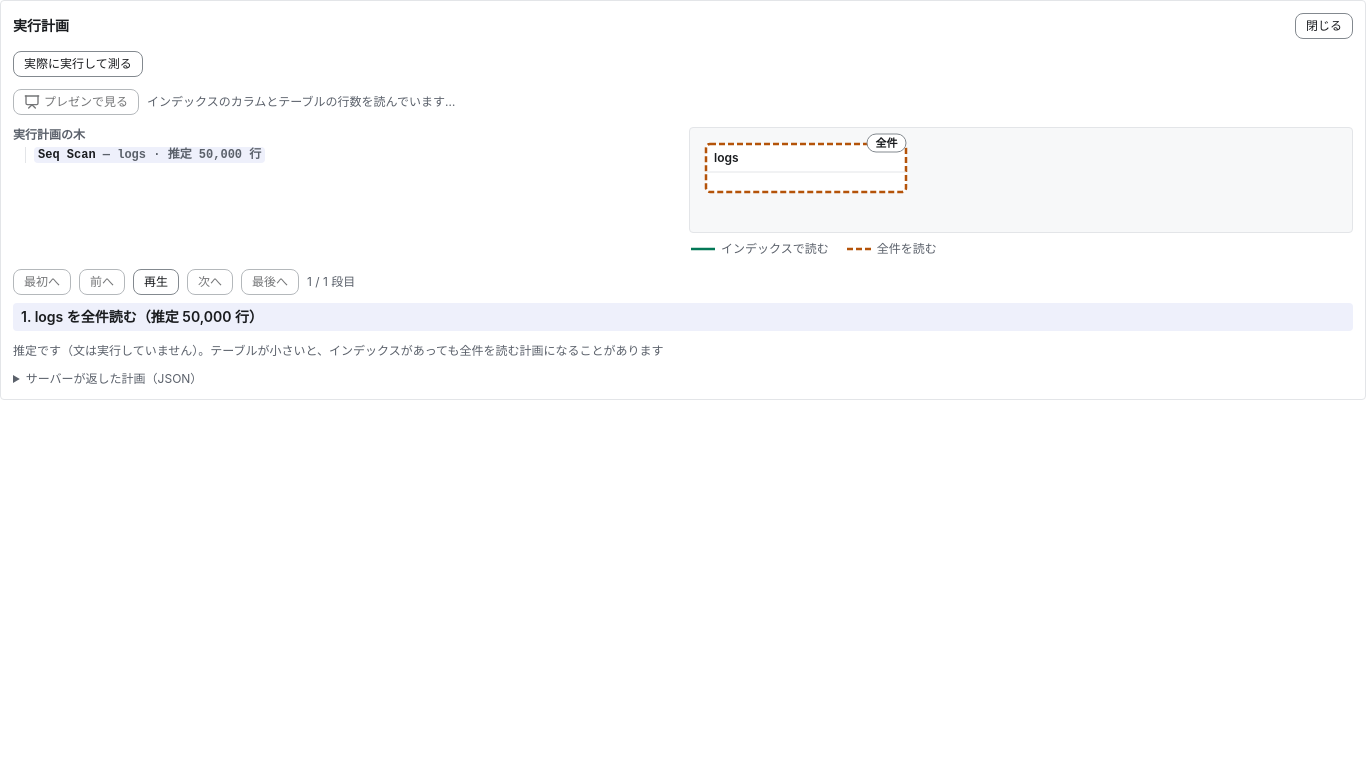
PlanView › run and measure › says why a stop did not reach the server, and can stop again
Click the button "実際に実行して測る".
click(78, 64)  # box [13,51,143,77]
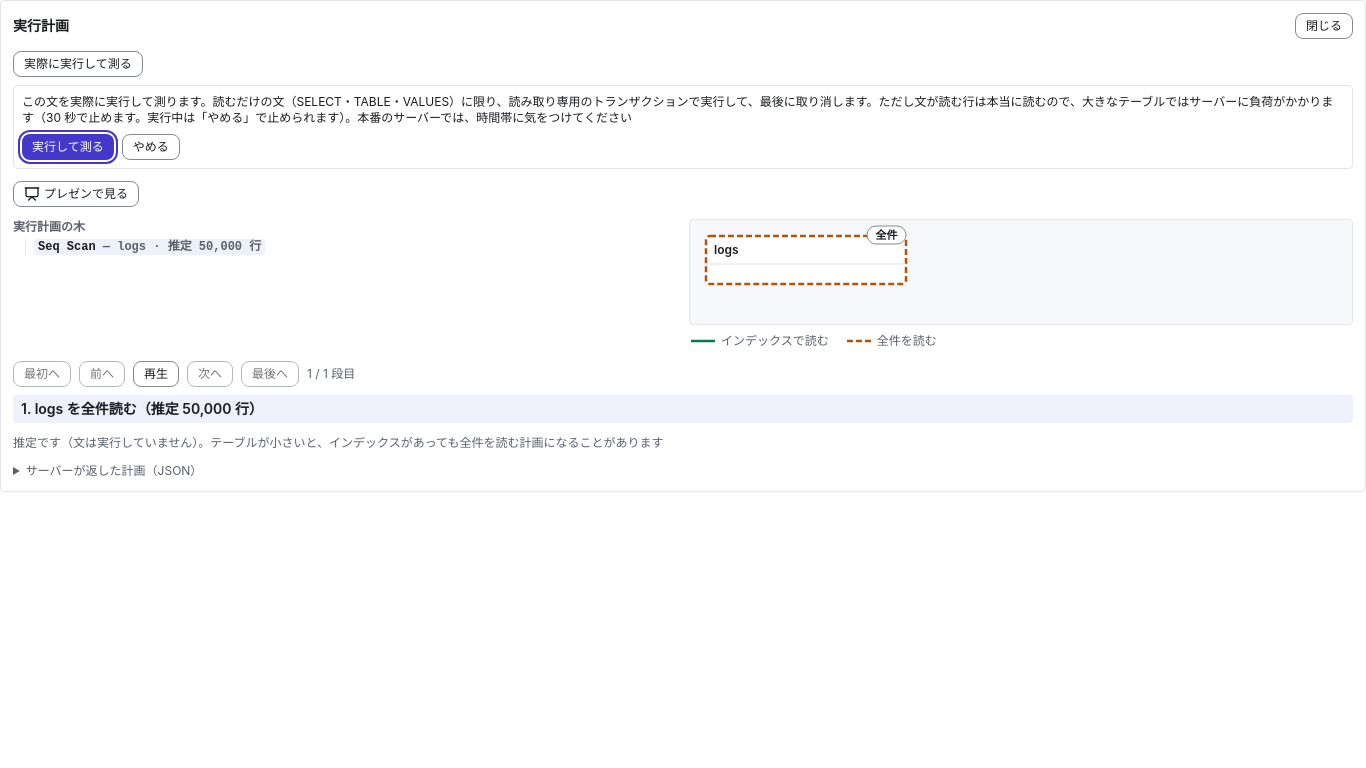
Click the button "実行して測る".
click(68, 147)  # box [22,134,114,160]
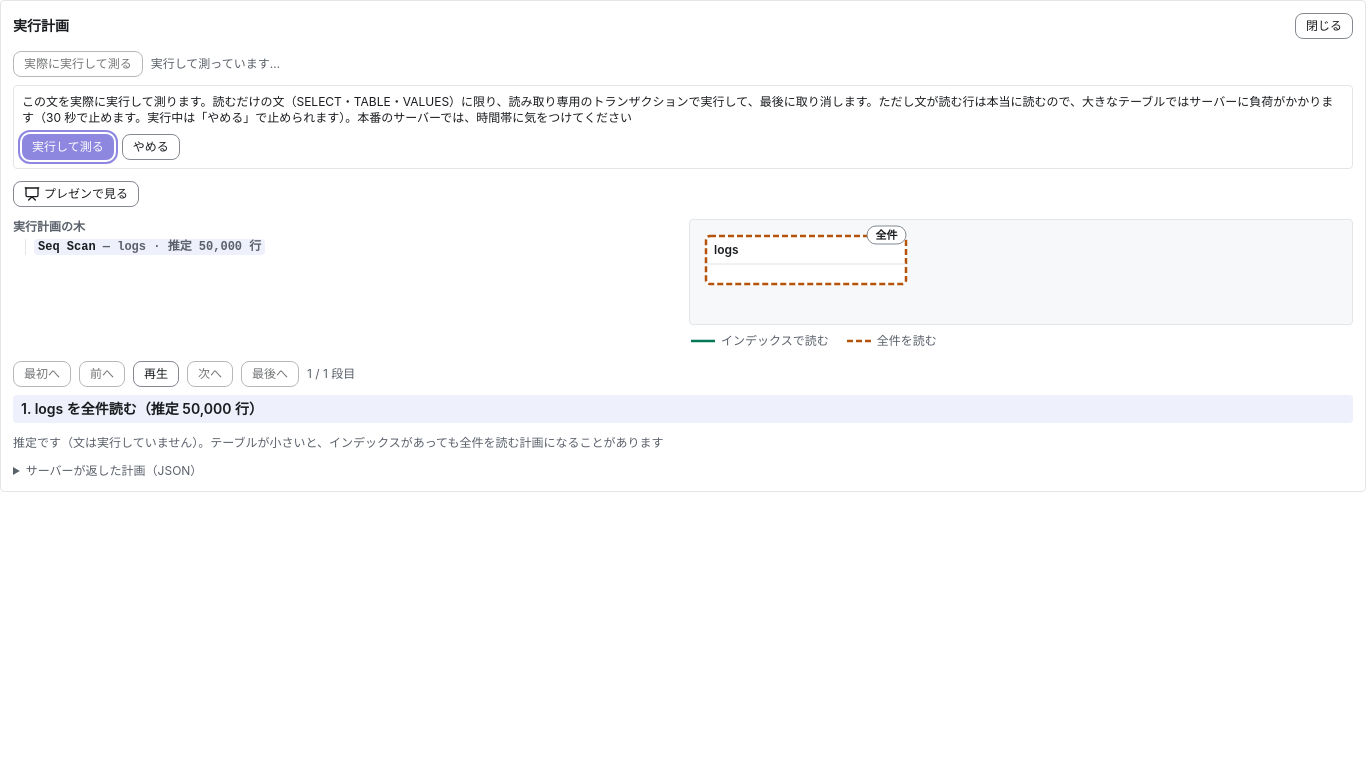
Click the button "やめる".
click(151, 147)  # box [122,134,180,160]
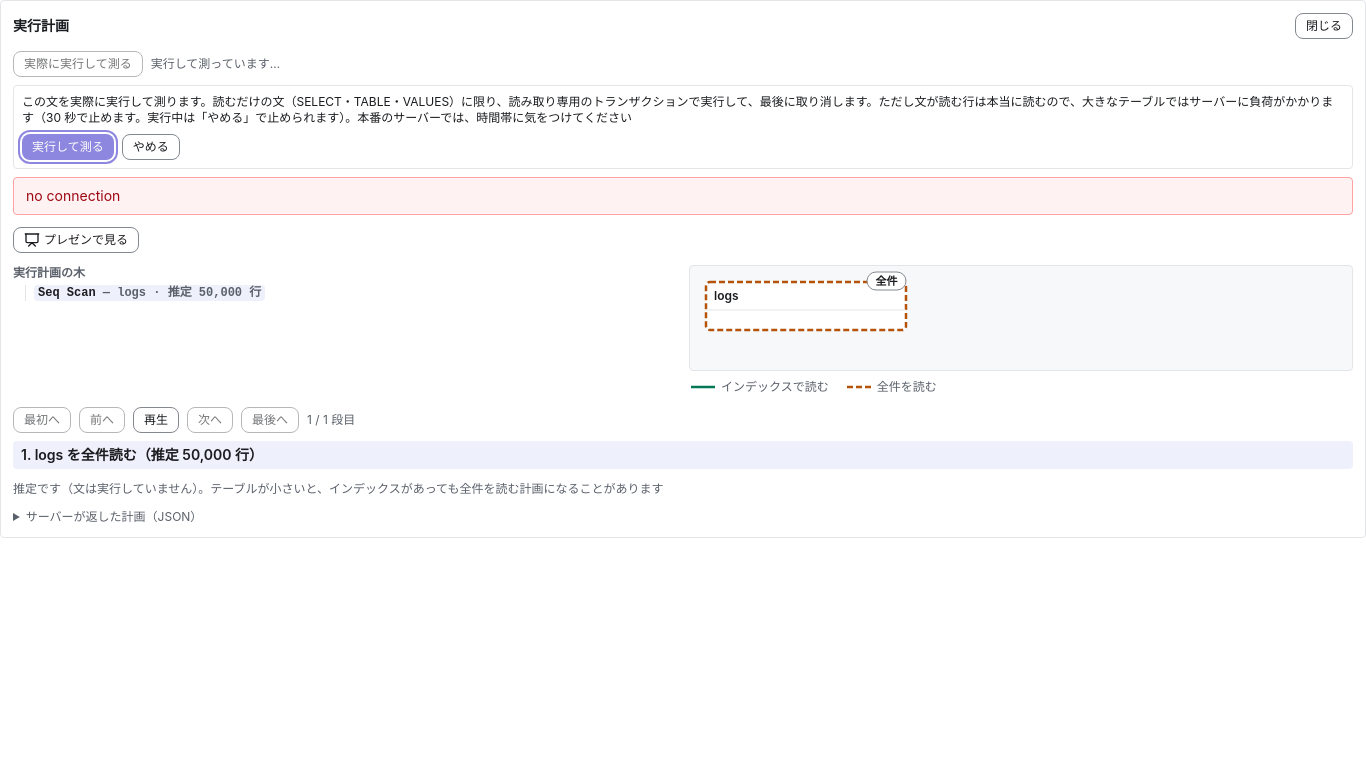
Expected: the text "no connection" is shown, [25,186,120,204]
Click the button "やめる".
click(151, 147)  # box [122,134,180,160]
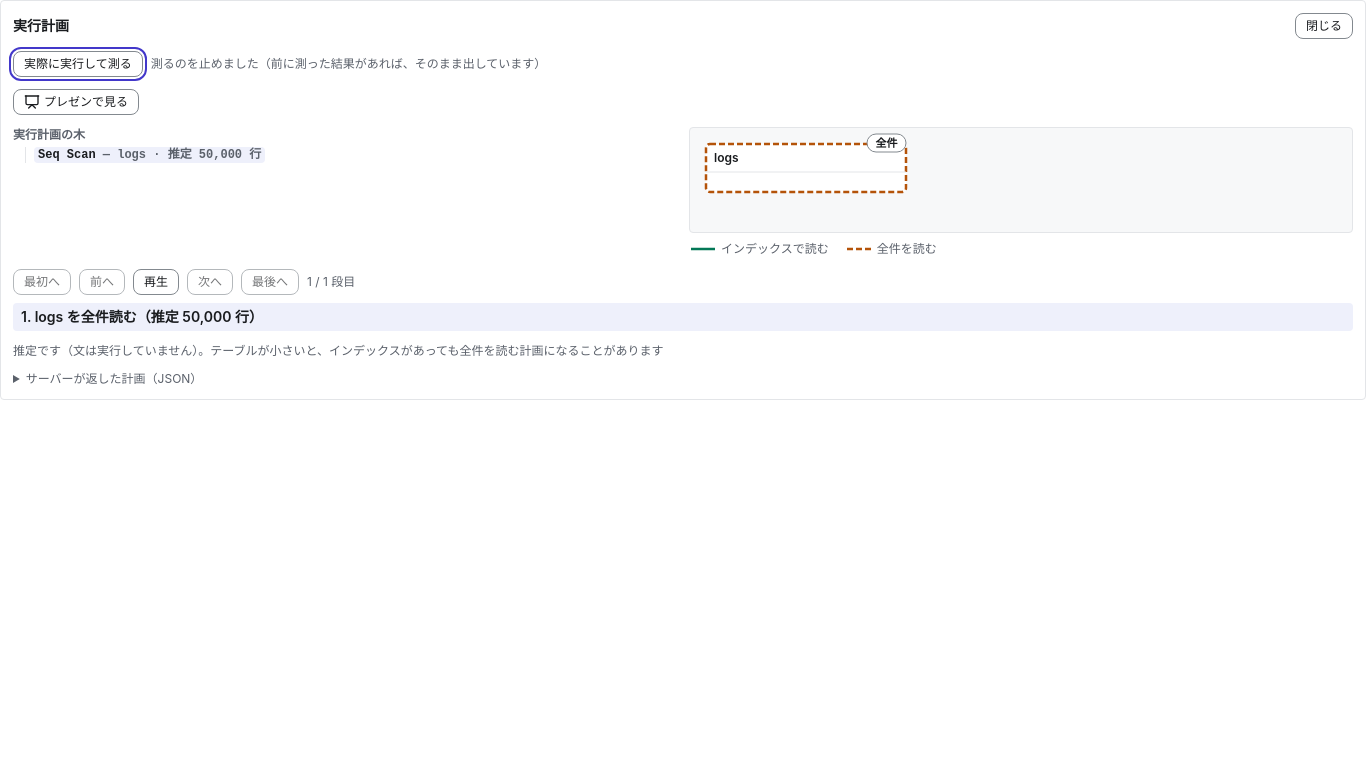
Expected: the text "測るのを止めました（前に測った結果があれば、そのまま出しています）" is shown, [151,56,546,72]
